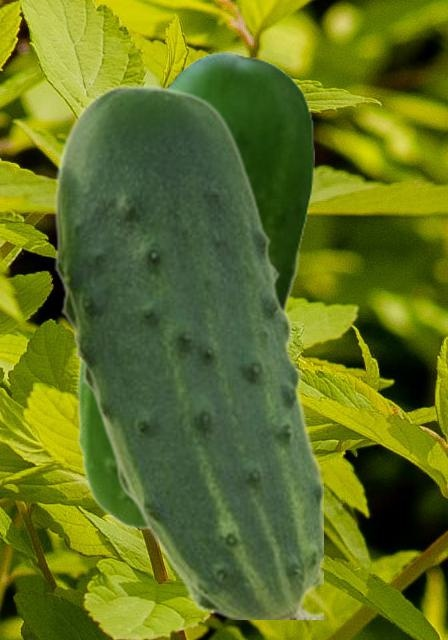cucumber: (54, 83, 322, 618), (77, 51, 313, 529)
